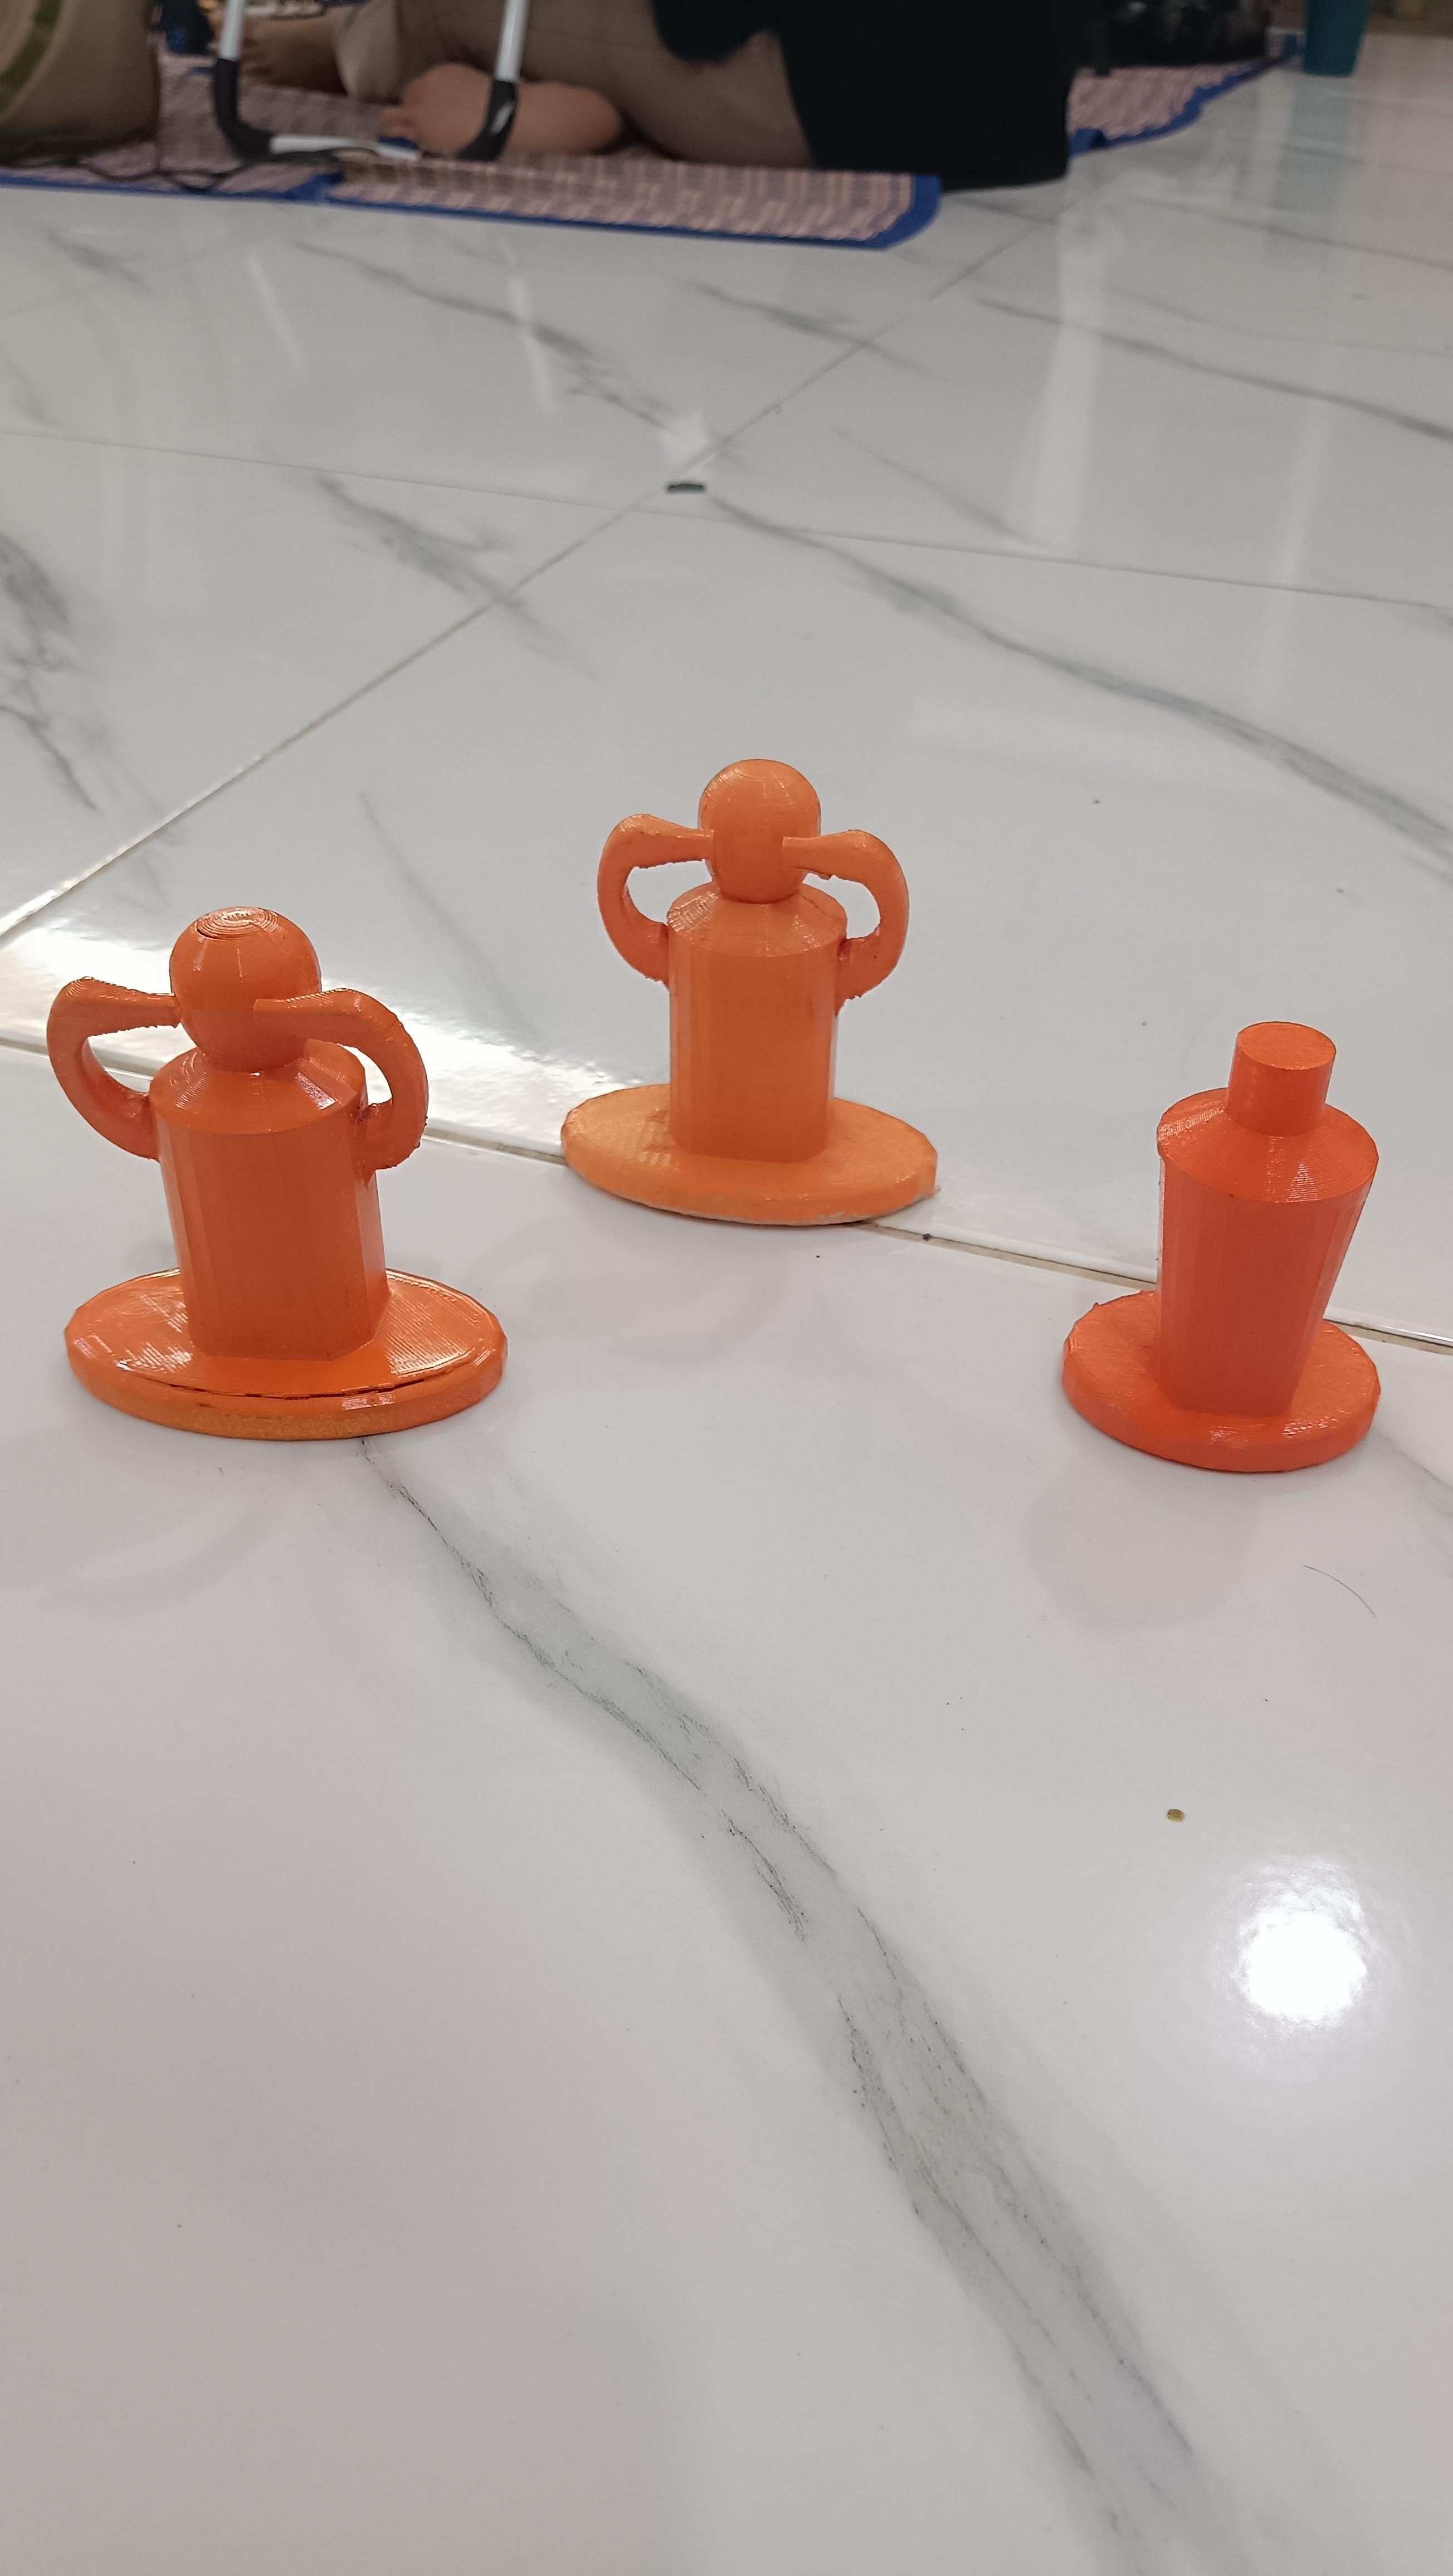dummy: (1039, 1006, 1412, 1514)
real_person: (14, 841, 515, 1477), (538, 742, 983, 1242)
